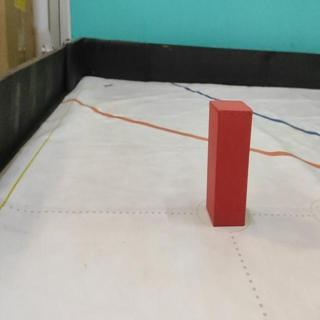redbox: (207, 98, 253, 227)
